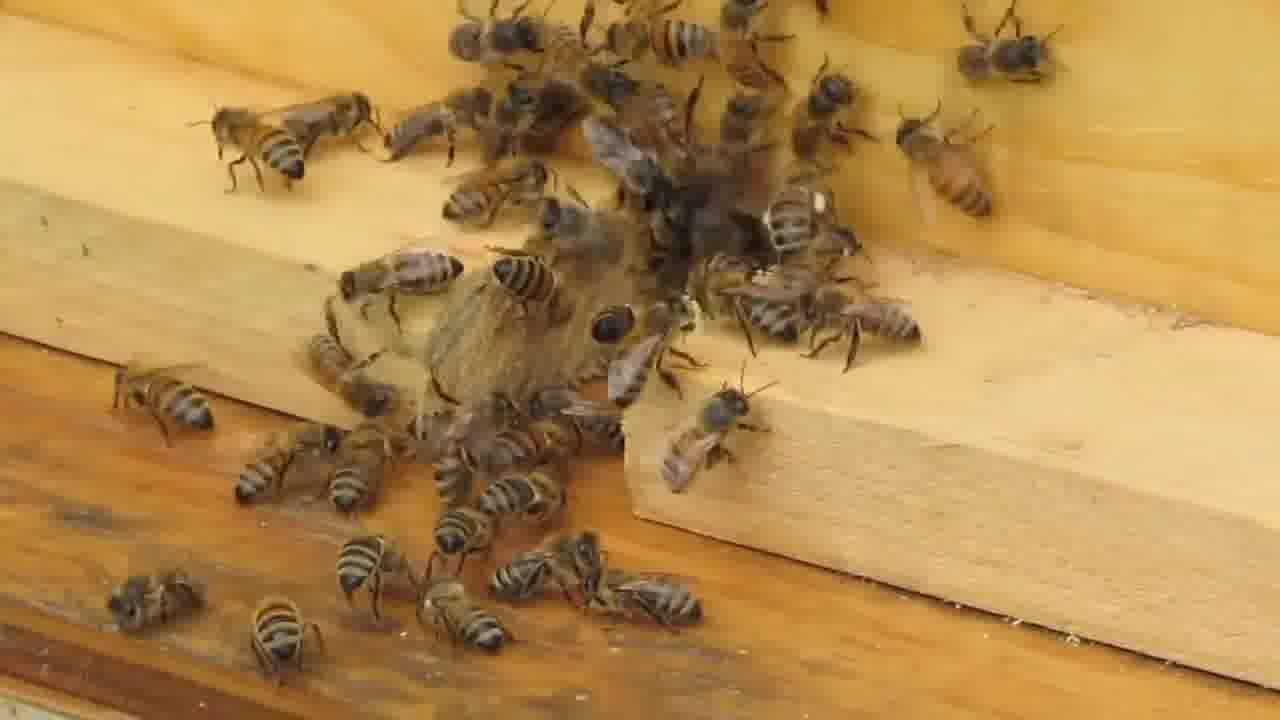pollen: (761, 184, 836, 257)
